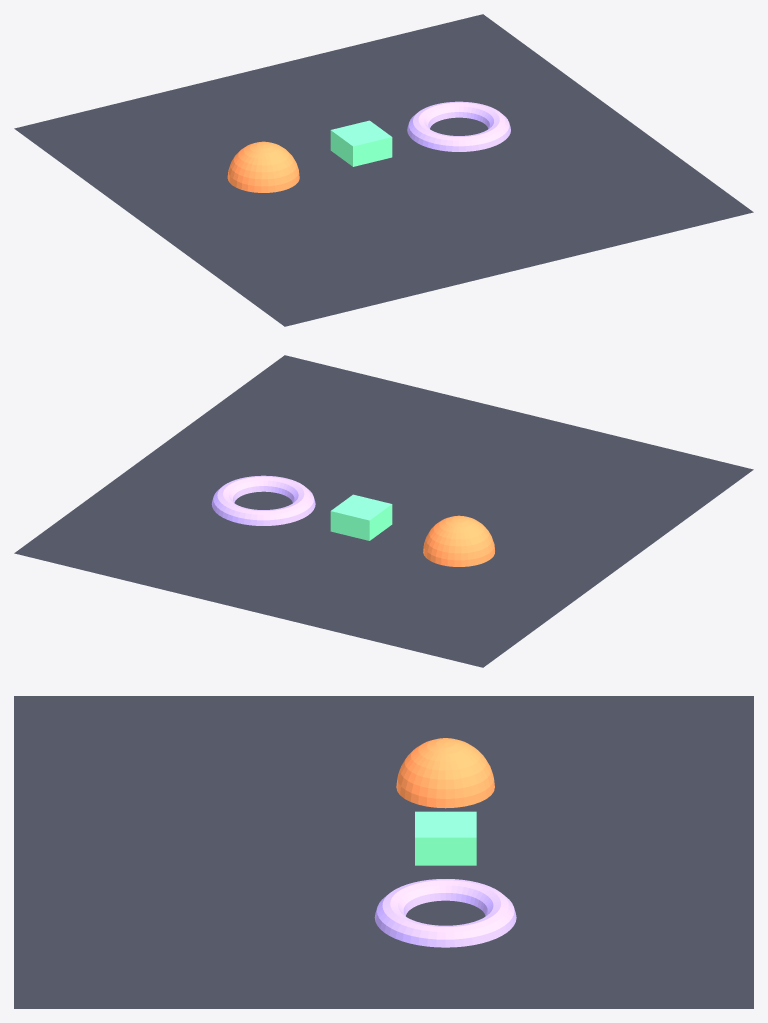
3 views of the same model, one above another, from view 1: azimuth 30°, elevation 25°; view 2: azimuth 150°, elevation 25°; view 3: azimuth 270°, elevation 25° (orthographic). The views are drawn at different scales.
Visible parts, largest first — view 1: ground, keys-ring, bass-orb, beat-column; view 2: ground, keys-ring, bass-orb, beat-column; view 3: ground, keys-ring, bass-orb, beat-column.
Part boxes in pixels (x1=…): ground: x1=14, y1=14, x2=753, y2=326; keys-ring: x1=407, y1=101, x2=510, y2=151; bass-orb: x1=227, y1=141, x2=299, y2=192; beat-column: x1=330, y1=120, x2=392, y2=166; ground: x1=14, y1=355, x2=753, y2=667; keys-ring: x1=211, y1=475, x2=315, y2=525; bass-orb: x1=423, y1=515, x2=494, y2=566; beat-column: x1=330, y1=494, x2=392, y2=540; ground: x1=14, y1=696, x2=753, y2=1008; keys-ring: x1=374, y1=879, x2=516, y2=947; bass-orb: x1=396, y1=738, x2=494, y2=808; beat-column: x1=415, y1=811, x2=476, y2=865.
Bounding box in the file's own units: 12 × 1.6 × 12.
